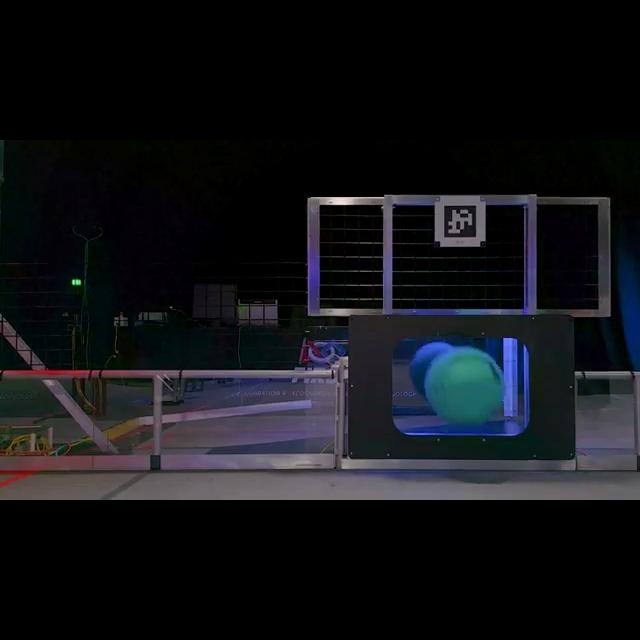ALGAE: (422, 346, 504, 426)
